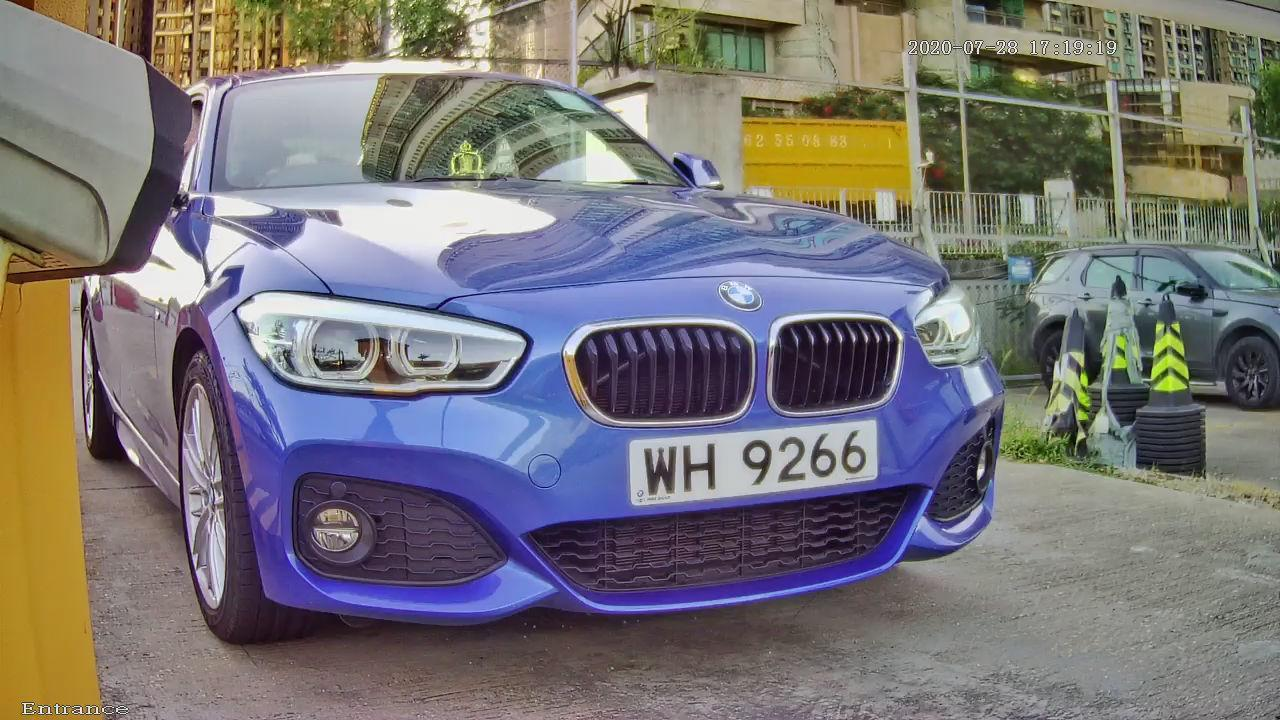privatecar: (23, 10, 1189, 688)
